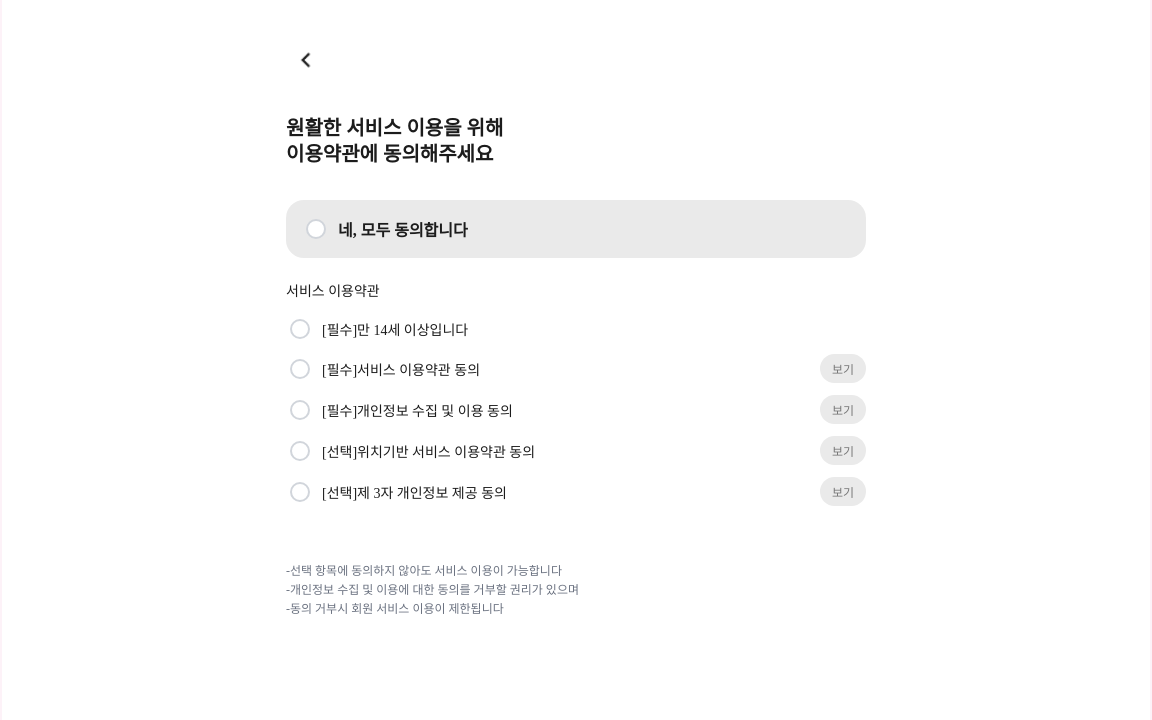
Test case: RegisterPage › Step 1 - 약관 동의 › '모두 동의' 체크 시 모든 항목이 체크된다
# 첫 번째가 "모두 동의" 체크박스
Click the checkbox next to "네, 모두 동의합니다". click: click(316, 229)
box: [306, 219, 326, 239]
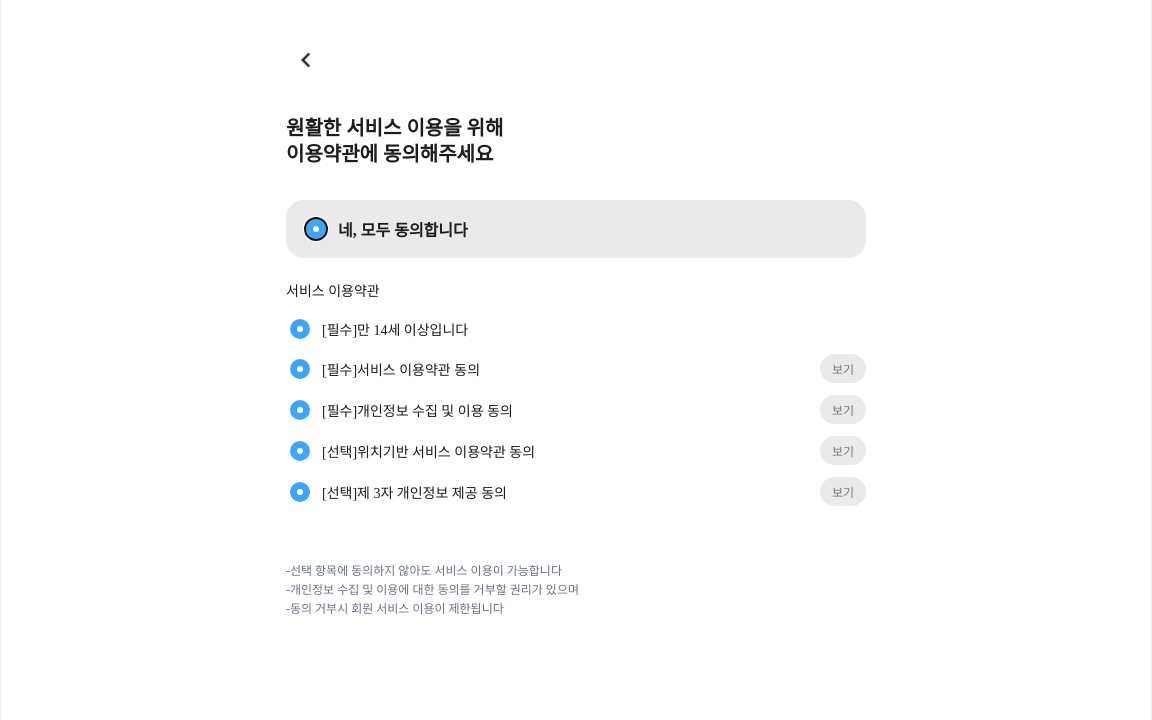
expect the checkbox next to "네, 모두 동의합니다" is checked: met, box [306, 219, 326, 239]
expect the checkbox in the row of "만 14세 이상입니다" is checked: met, box [290, 319, 310, 339]
expect the 3rd checkbox is checked: met, box [290, 358, 310, 378]
